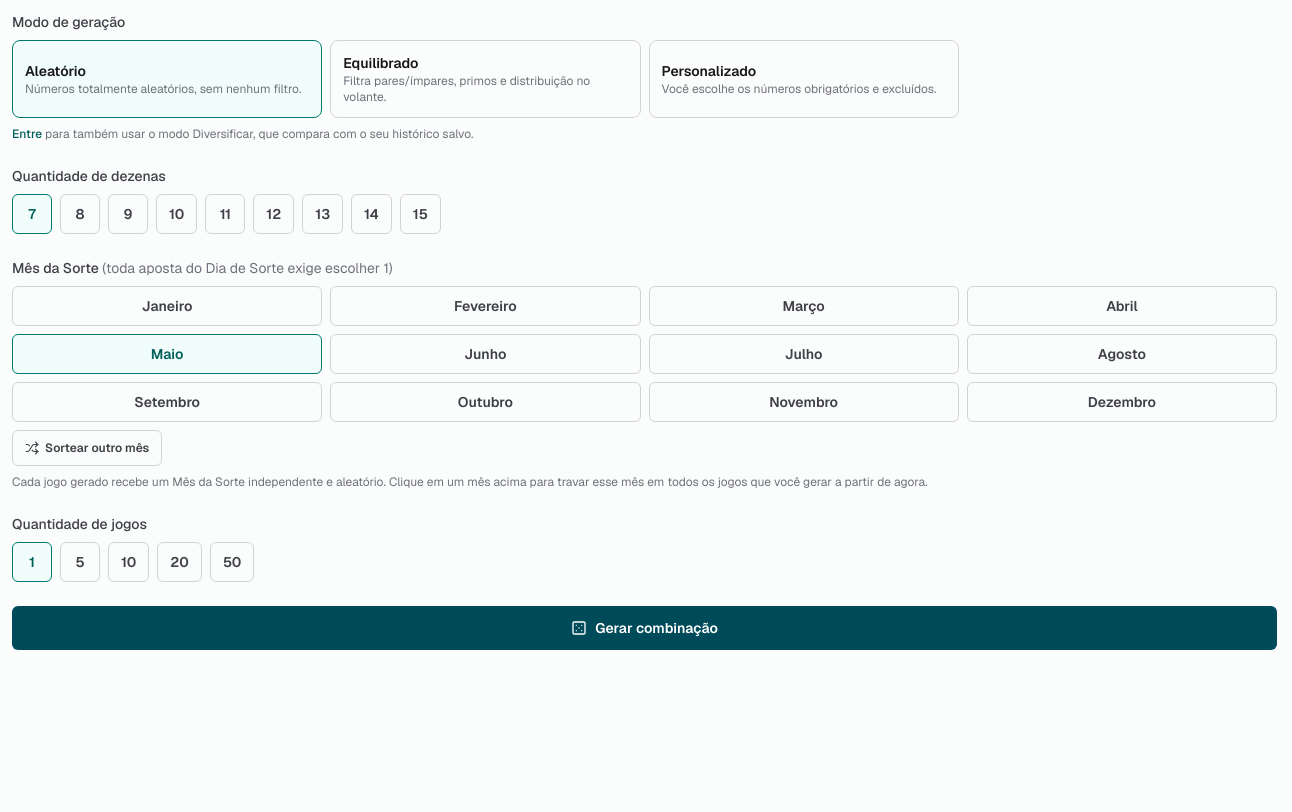
Test case: DiaDeSorteGenerator › copia todos os jogos gerados (com o mês) para a área de transferência
Click the button "5": [80, 562] box [60,542,100,582]
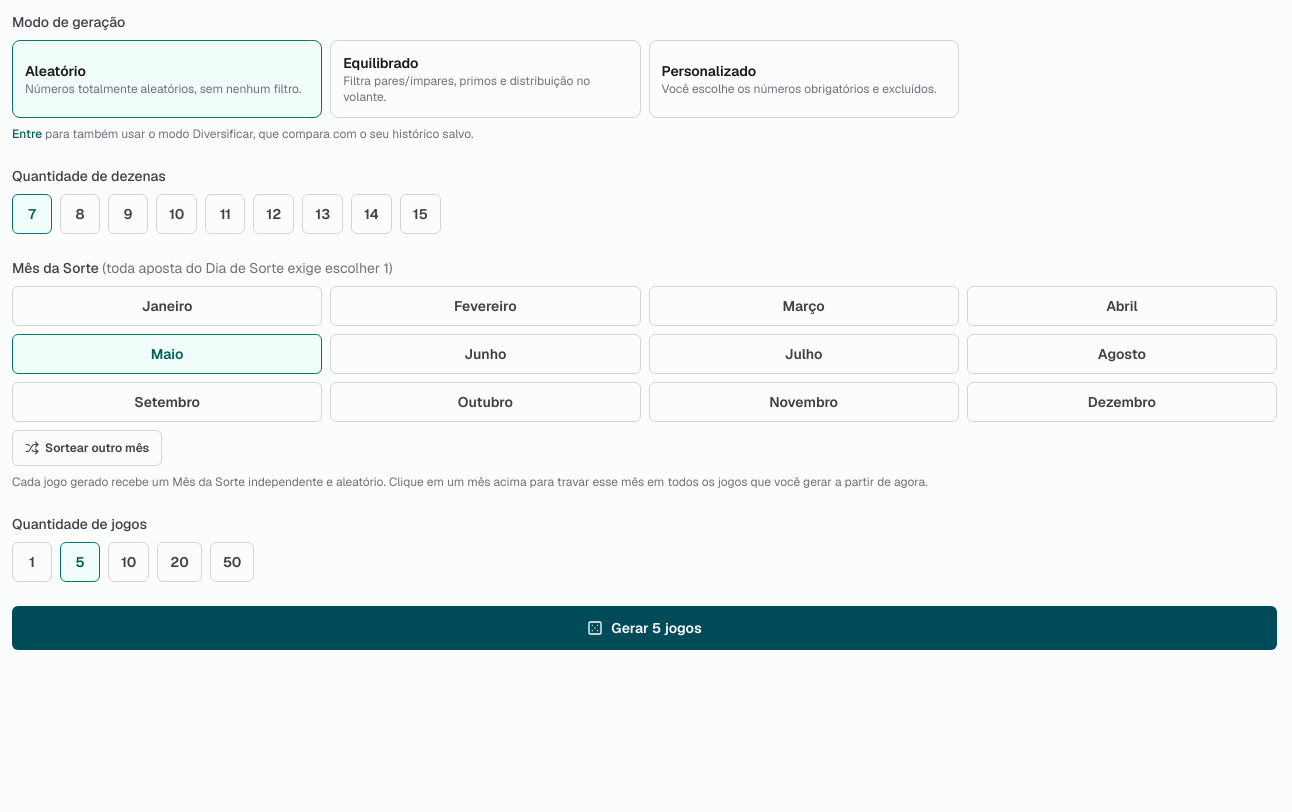
Click the button "Gerar 5 jogos": [644, 628] box [12,606,1277,650]
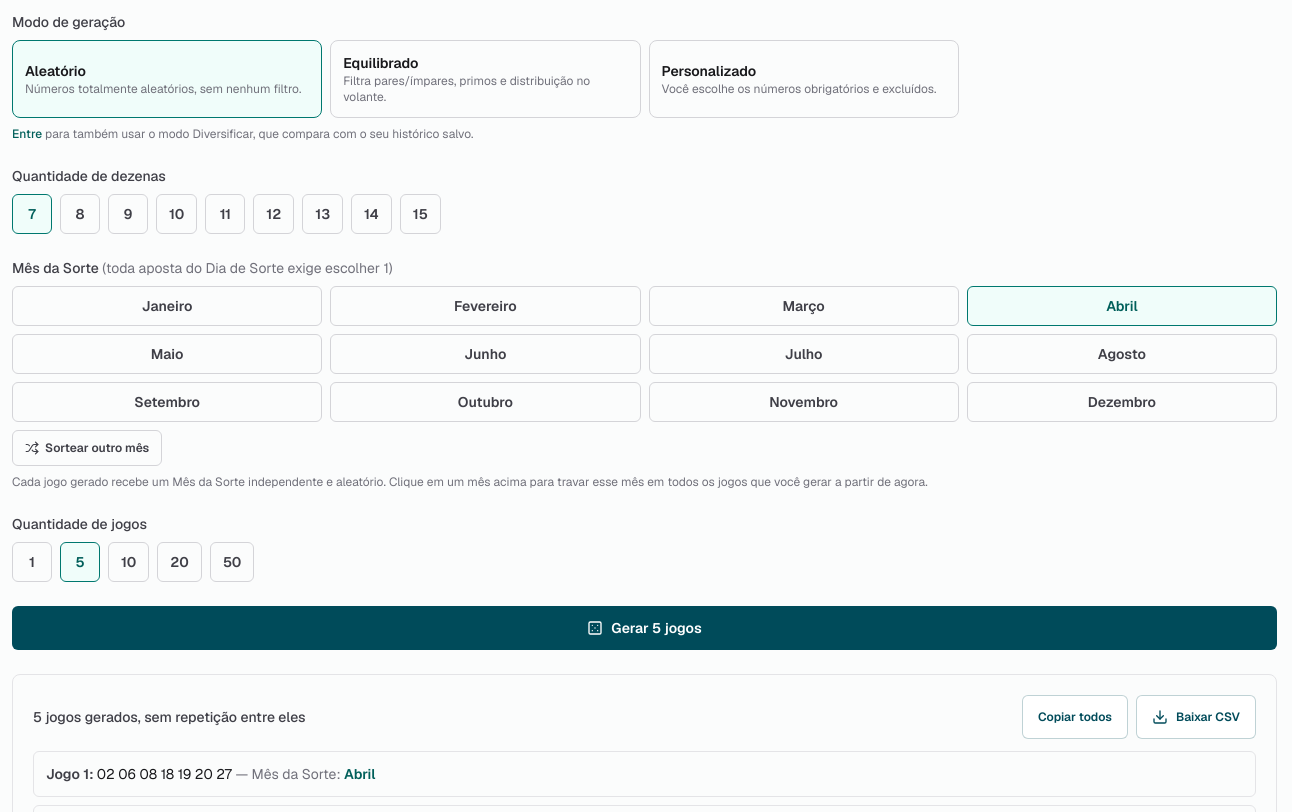
Click the button "Copiar todos": [1075, 717] box [1022,695,1128,739]
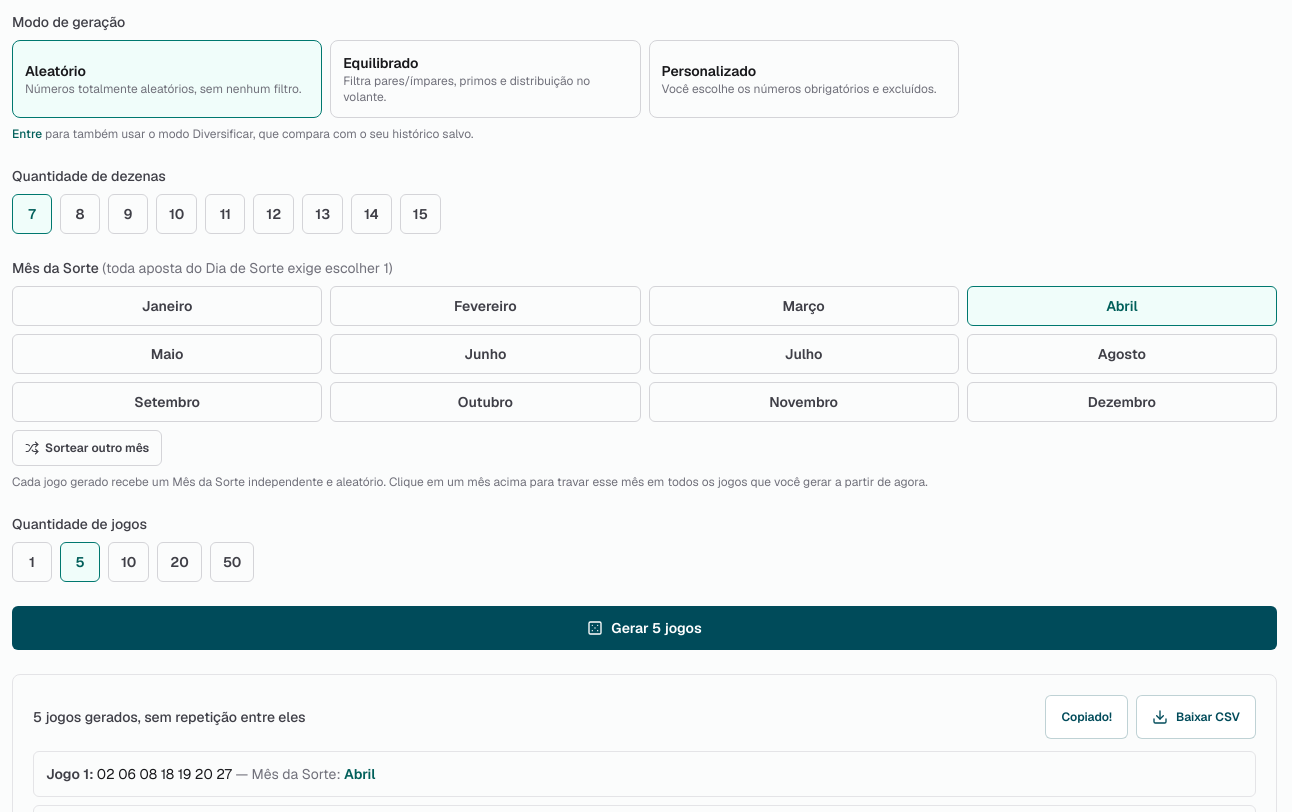
Result: the button "Copiado!" is shown at [1046,695,1128,739]
